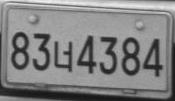3: (31, 32, 51, 71), (98, 35, 117, 76)
4: (75, 35, 97, 74), (142, 37, 163, 77)
8: (120, 35, 141, 76), (9, 30, 30, 70)
너: (52, 40, 73, 72)
